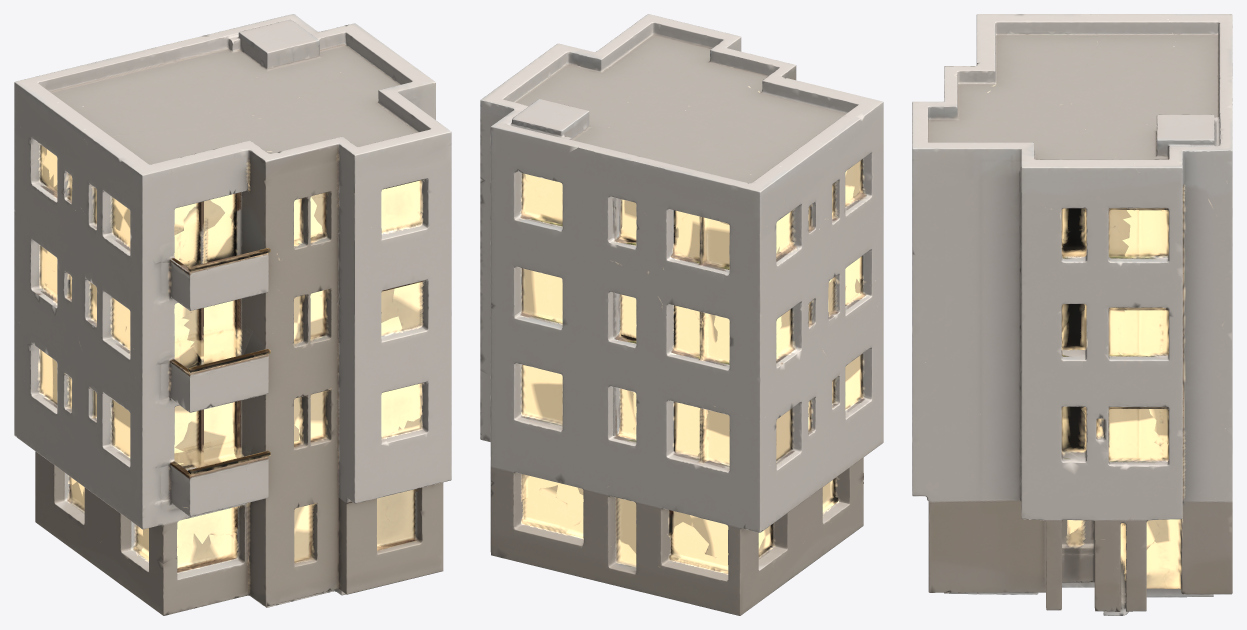
The model's file is apart_side_optimized.glb.
The picture shows the model from 3 angles, left to right: view 1: azimuth 30°, elevation 25°; view 2: azimuth 150°, elevation 25°; view 3: azimuth 270°, elevation 25°; orthographic projection. The views are drawn at different scales.
Visible parts, largest first — view 1: world; view 2: world; view 3: world.
Boxes of the visible parts, bbox=[...] form: world: bbox=[14, 14, 451, 615]; world: bbox=[480, 14, 883, 615]; world: bbox=[912, 14, 1232, 615].
Size of the model in its own units: 1.3 by 1.8 by 1.14.
1 material, 1 textured.
